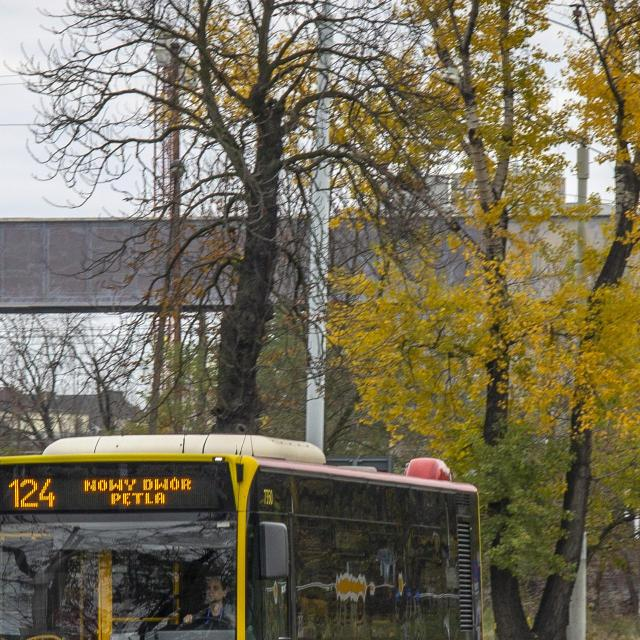Bus: (0, 436, 483, 640)
